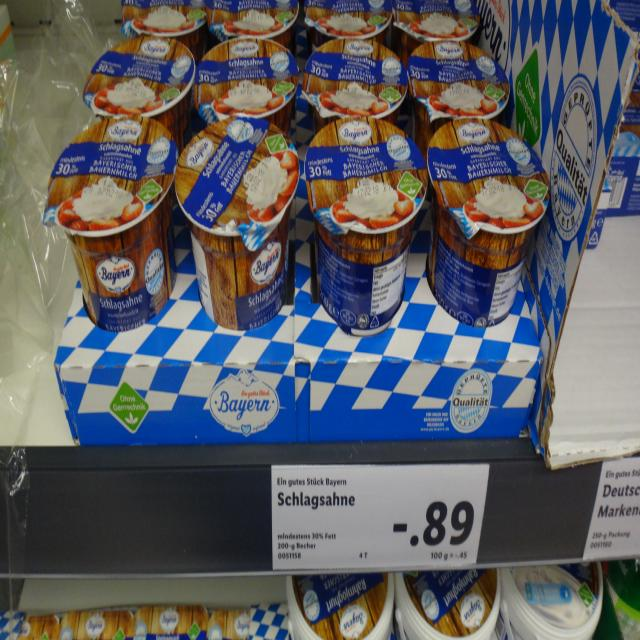Cream: (43, 116, 178, 331), (305, 117, 428, 335), (175, 114, 300, 328), (428, 114, 550, 327), (83, 33, 195, 152), (408, 40, 511, 157), (194, 33, 299, 133), (302, 37, 409, 132), (391, 0, 481, 65), (121, 0, 207, 62), (204, 0, 299, 52), (305, 0, 393, 53)
